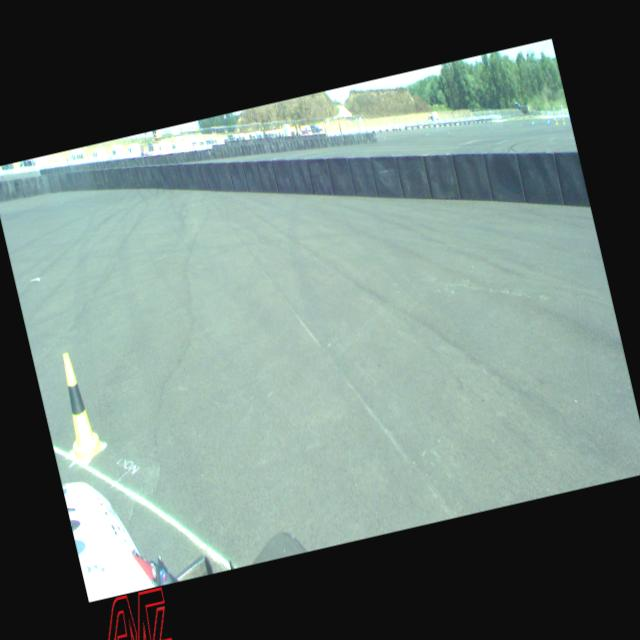yellow_cone: (48, 349, 106, 467)
